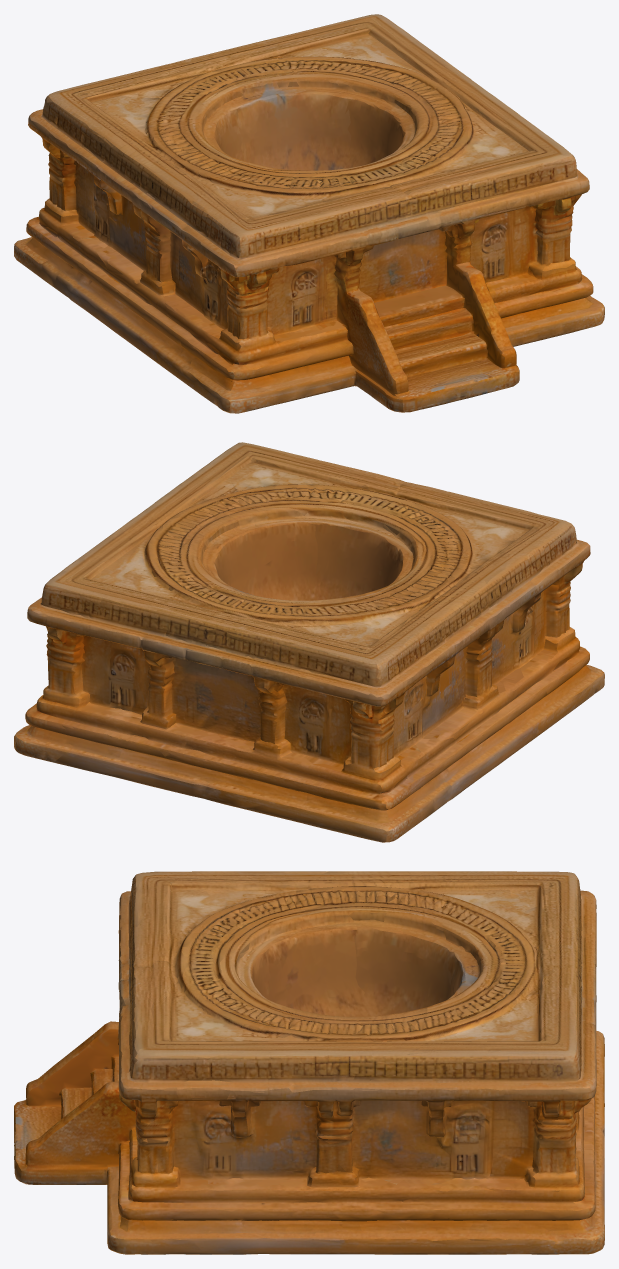
Rendered from lost-seal-altar.glb.
3 renders of one model, top to bottom at view 1: azimuth 30°, elevation 25°; view 2: azimuth 150°, elevation 25°; view 3: azimuth 270°, elevation 25°, orthographic. The views are drawn at different scales.
Visible parts, largest first — view 1: textured_mesh; view 2: textured_mesh; view 3: textured_mesh.
Part boxes in pixels (x1=…): textured_mesh: x1=14, y1=14, x2=604, y2=413; textured_mesh: x1=14, y1=442, x2=604, y2=842; textured_mesh: x1=14, y1=871, x2=604, y2=1254.
Bounding box in the file's own units: 1.69 × 0.7041 × 1.99.
Materials: 1 (1 with a texture image).
